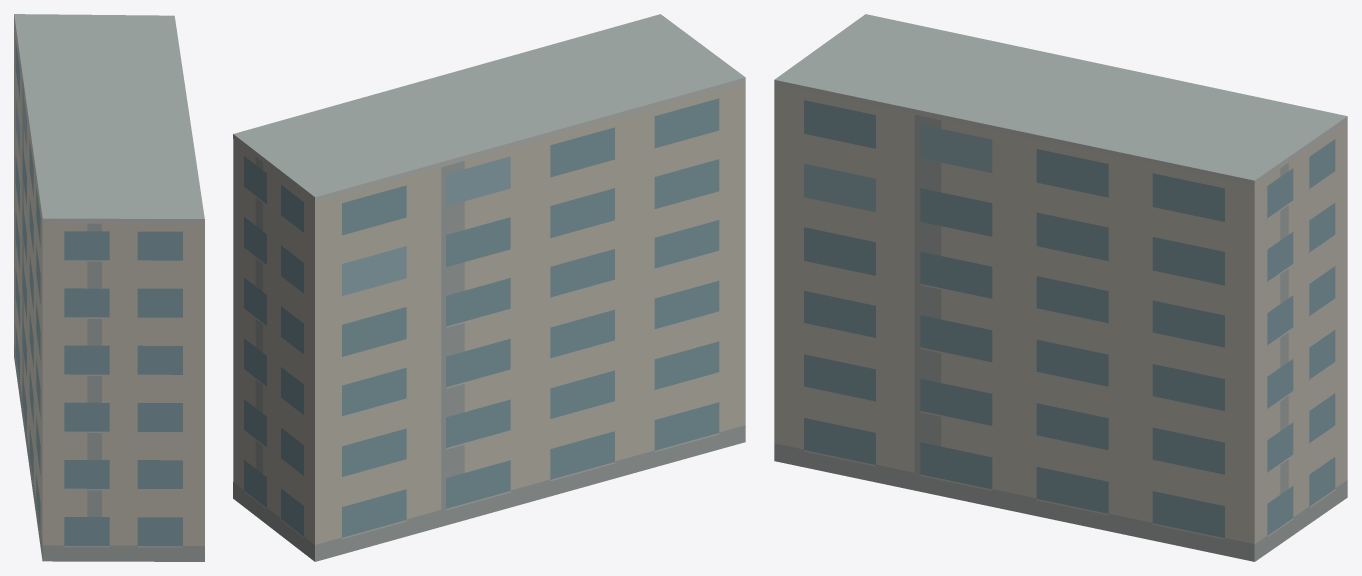
File: survey-upis-33039414.glb
3 views of the same model, side by side, from view 1: azimuth 30°, elevation 25°; view 2: azimuth 150°, elevation 25°; view 3: azimuth 270°, elevation 25° (orthographic). The views are drawn at different scales.
Parts seen in each view (by area): view 1: survey-upis-33039414.tmp; view 2: survey-upis-33039414.tmp; view 3: survey-upis-33039414.tmp.
Boxes of the visible parts, x1,y1,x2,y2 form: survey-upis-33039414.tmp: (14, 14, 204, 561); survey-upis-33039414.tmp: (233, 14, 745, 561); survey-upis-33039414.tmp: (774, 14, 1347, 561).
Bounding box in the file's own units: 16.03 × 17.1 × 23.32.
